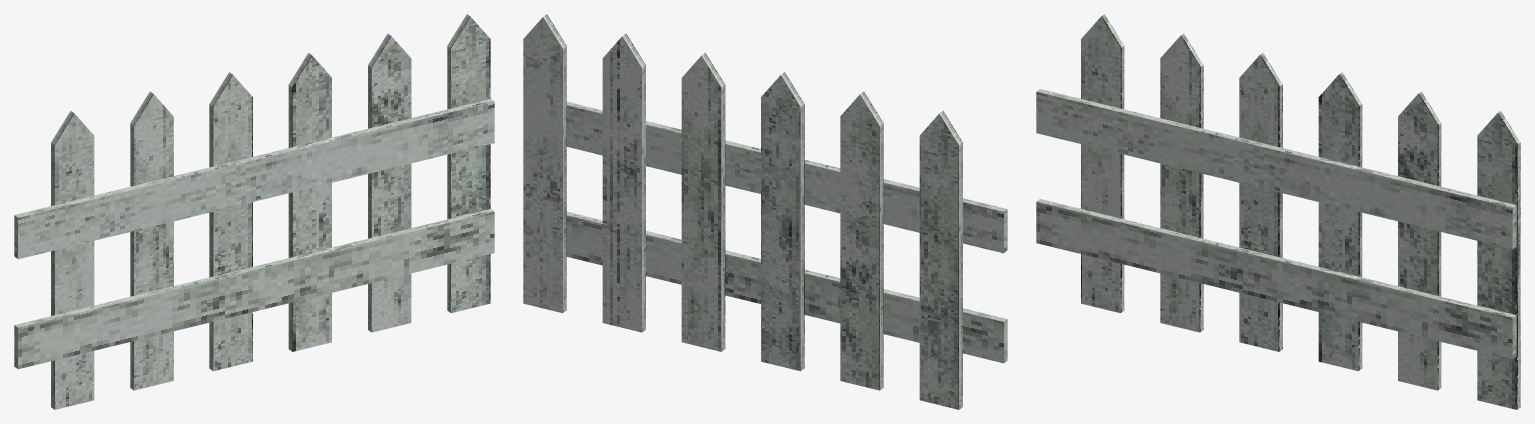
File: white_picket_fence_open_right.glb
3 renders of one model, left to right at view 1: azimuth 30°, elevation 25°; view 2: azimuth 150°, elevation 25°; view 3: azimuth 330°, elevation 25°, orthographic.
Parts seen in each view (by area): view 1: white_picket_fence_open_right; view 2: white_picket_fence_open_right; view 3: white_picket_fence_open_right.
Part boxes in pixels (bbox=[...]): white_picket_fence_open_right: bbox=[14, 14, 494, 409]; white_picket_fence_open_right: bbox=[523, 14, 1007, 409]; white_picket_fence_open_right: bbox=[1036, 14, 1520, 409].
Bounding box in the file's own units: 2.16 × 1.27 × 0.0622.
Materials: 1 (1 with a texture image).
